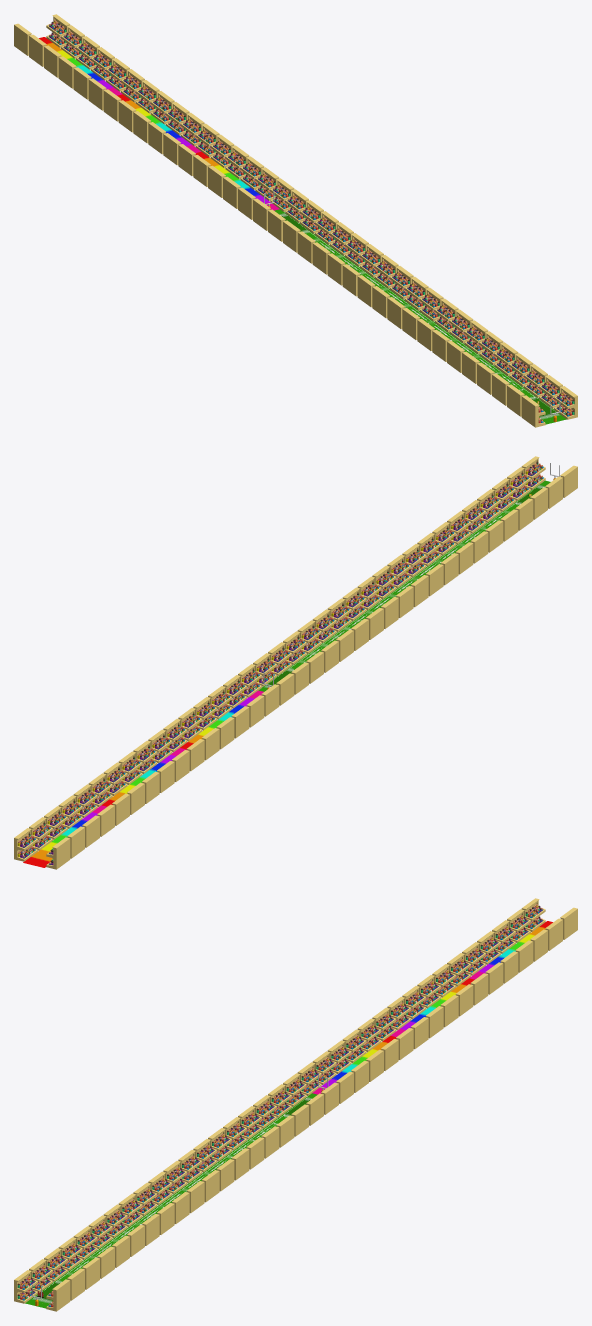
File: field.fbx
3 views of the same model, one above another, from view 1: azimuth 30°, elevation 25°; view 2: azimuth 150°, elevation 25°; view 3: azimuth 330°, elevation 25° (orthographic).
Visible parts, largest first — view 1: tribun, saha, rainbowbar; view 2: tribun, saha, rainbowbar; view 3: tribun, saha, rainbowbar.
Part boxes in pixels (x1,y1,x2,y2): tribun: [14, 14, 577, 427]; saha: [274, 209, 566, 424]; rainbowbar: [39, 37, 279, 210]; tribun: [14, 456, 577, 869]; saha: [258, 480, 550, 691]; rainbowbar: [23, 690, 263, 867]; tribun: [14, 898, 577, 1311]; saha: [25, 1093, 317, 1308]; rainbowbar: [312, 921, 552, 1094].
Size of the model in its own units: 23.56 by 501 by 11.3.
Materials: 3 (3 with a texture image).
